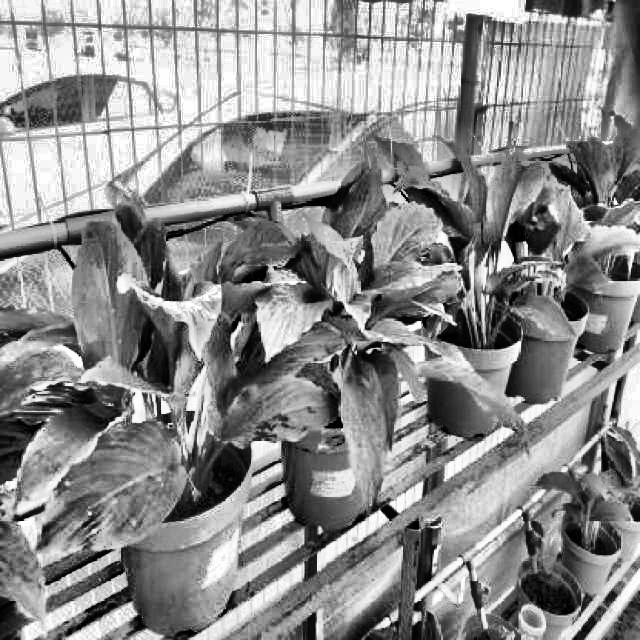plants: (0, 194, 317, 558), (209, 160, 537, 506), (353, 140, 592, 368)
